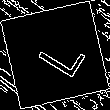L_NW: (25, 28, 85, 82)
